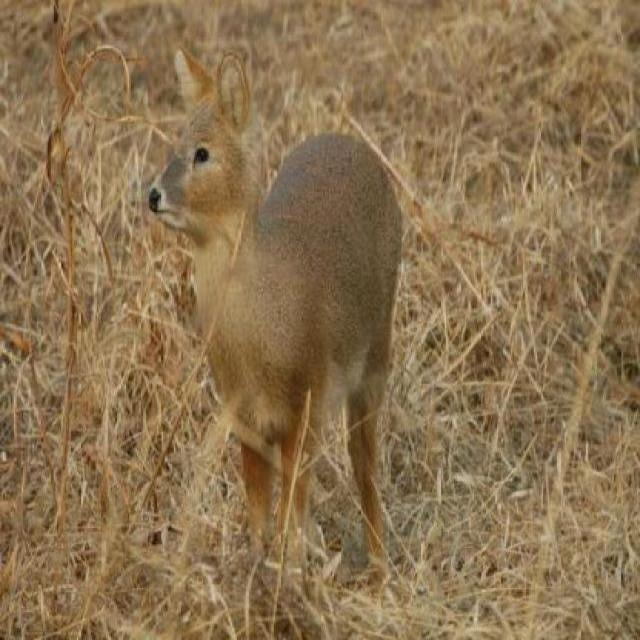deer: (141, 35, 407, 602)
